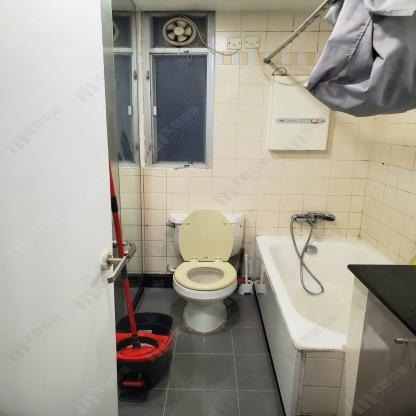Bathtub: (254, 236, 397, 415)
Toilet: (167, 207, 245, 332)
Water Heater: (266, 75, 331, 152)
